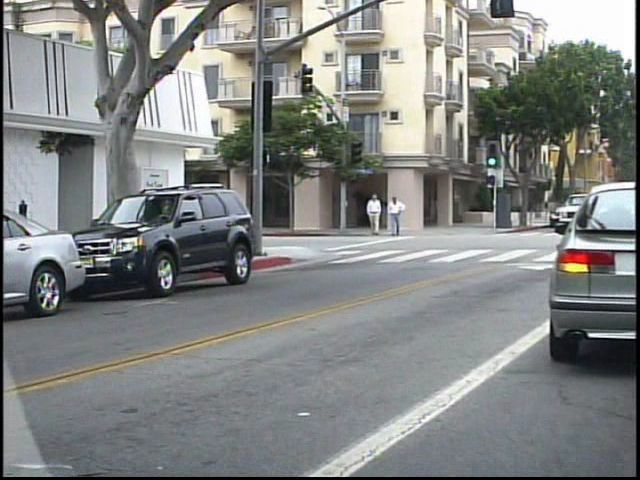person: (361, 191, 380, 243), (382, 193, 403, 239)
